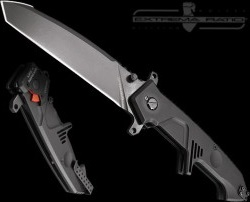knife: (1, 1, 124, 95)
